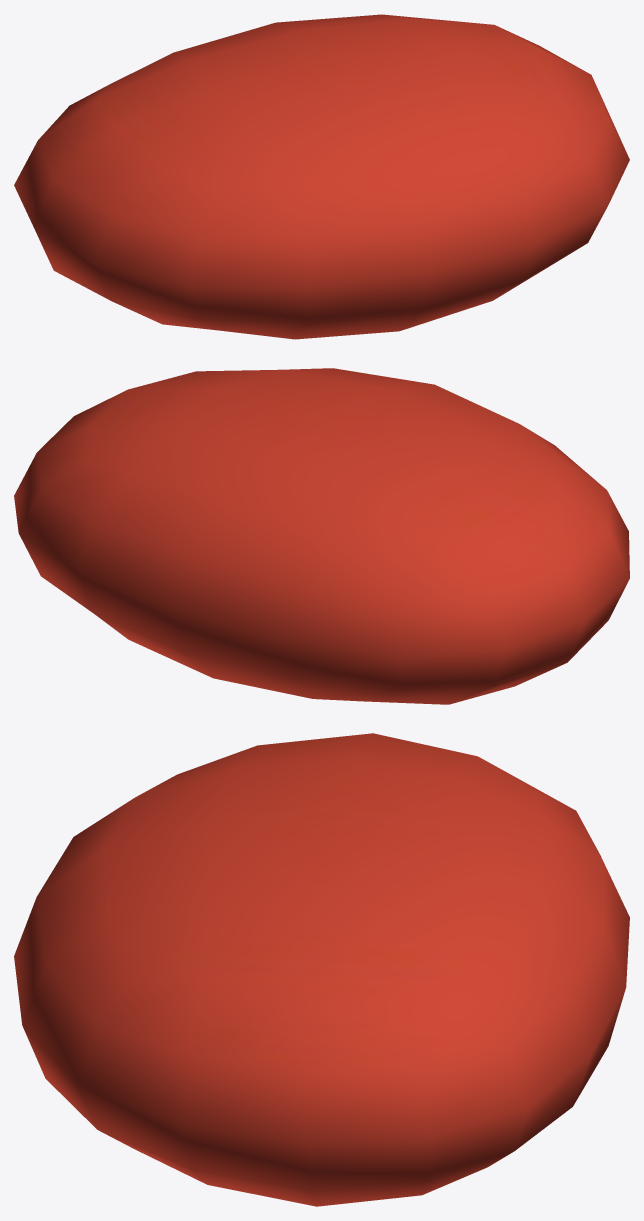
File: candy6.fbx
The picture shows the model from 3 angles, top to bottom: view 1: azimuth 30°, elevation 25°; view 2: azimuth 150°, elevation 25°; view 3: azimuth 270°, elevation 25°; orthographic projection. The views are drawn at different scales.
Visible parts, largest first — view 1: pCube34; view 2: pCube34; view 3: pCube34.
Part boxes in pixels (x1=…): pCube34: x1=14, y1=14, x2=629, y2=339; pCube34: x1=14, y1=368, x2=629, y2=704; pCube34: x1=14, y1=733, x2=629, y2=1206.
Size of the model in its own units: 1.91 by 0.788 by 1.45.
